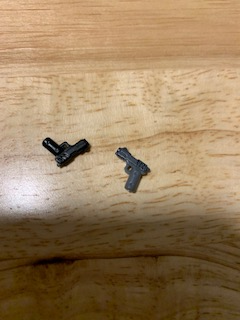pistol: (107, 142, 151, 193), (39, 129, 93, 168)
